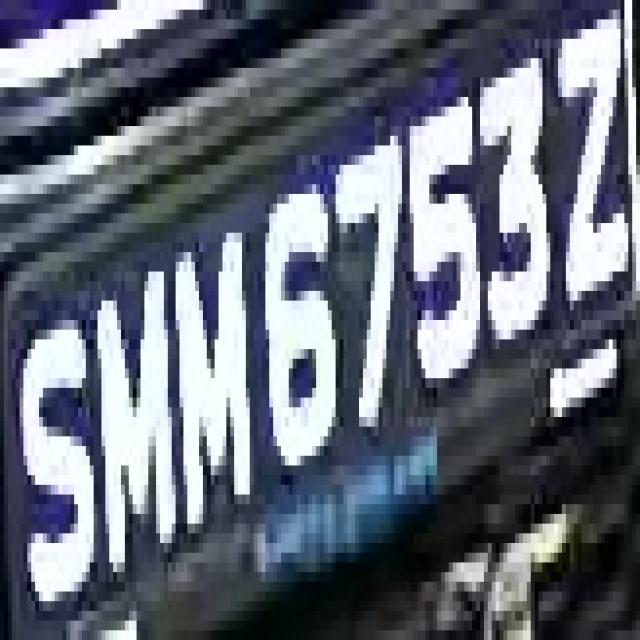3: (468, 48, 558, 359)
5: (402, 87, 492, 398)
6: (253, 174, 339, 485)
7: (320, 117, 406, 466)
M: (164, 194, 257, 553), (94, 271, 180, 582)
S: (16, 291, 94, 601)
Z: (554, 19, 636, 330)
